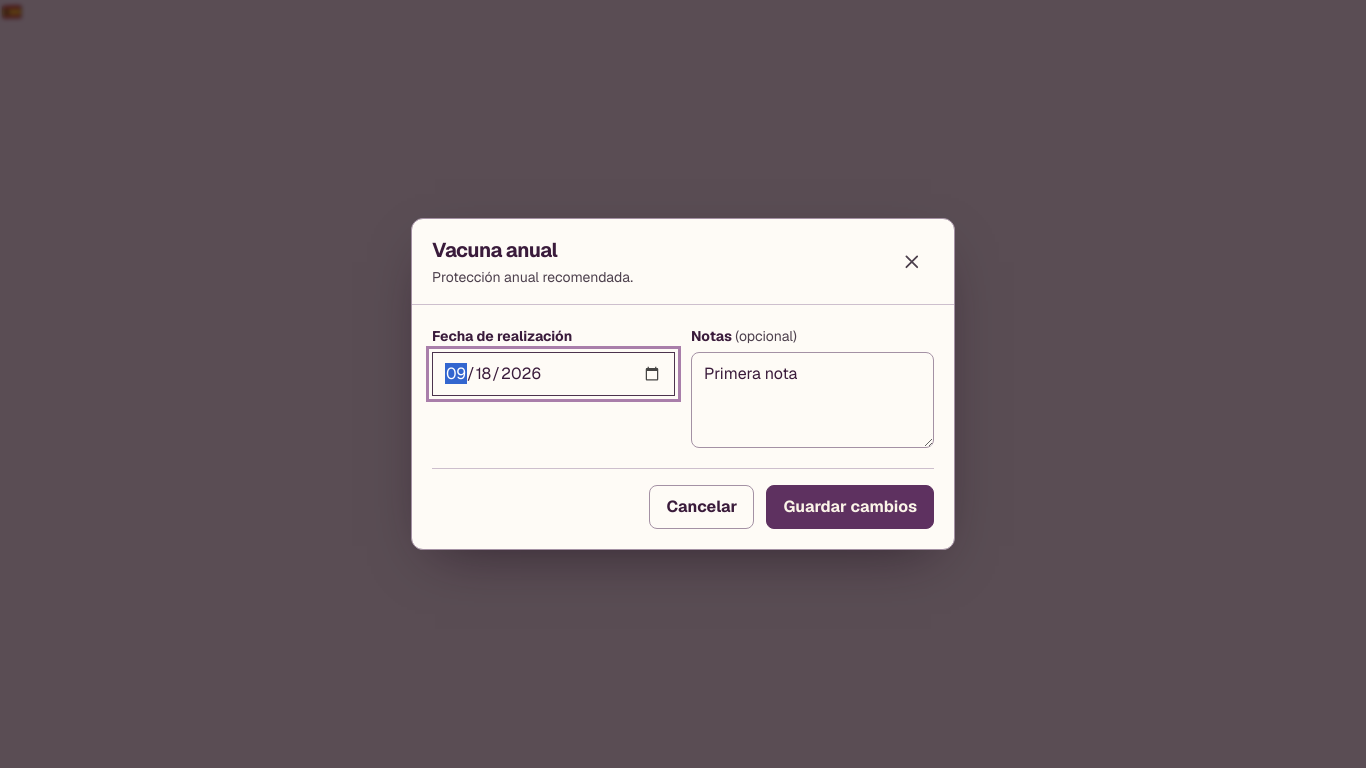
ProcedureModal › stays open and announces repository errors
The image size is (1366, 768).
Click the button "Guardar cambios" at [850, 507], box [766, 485, 934, 529]
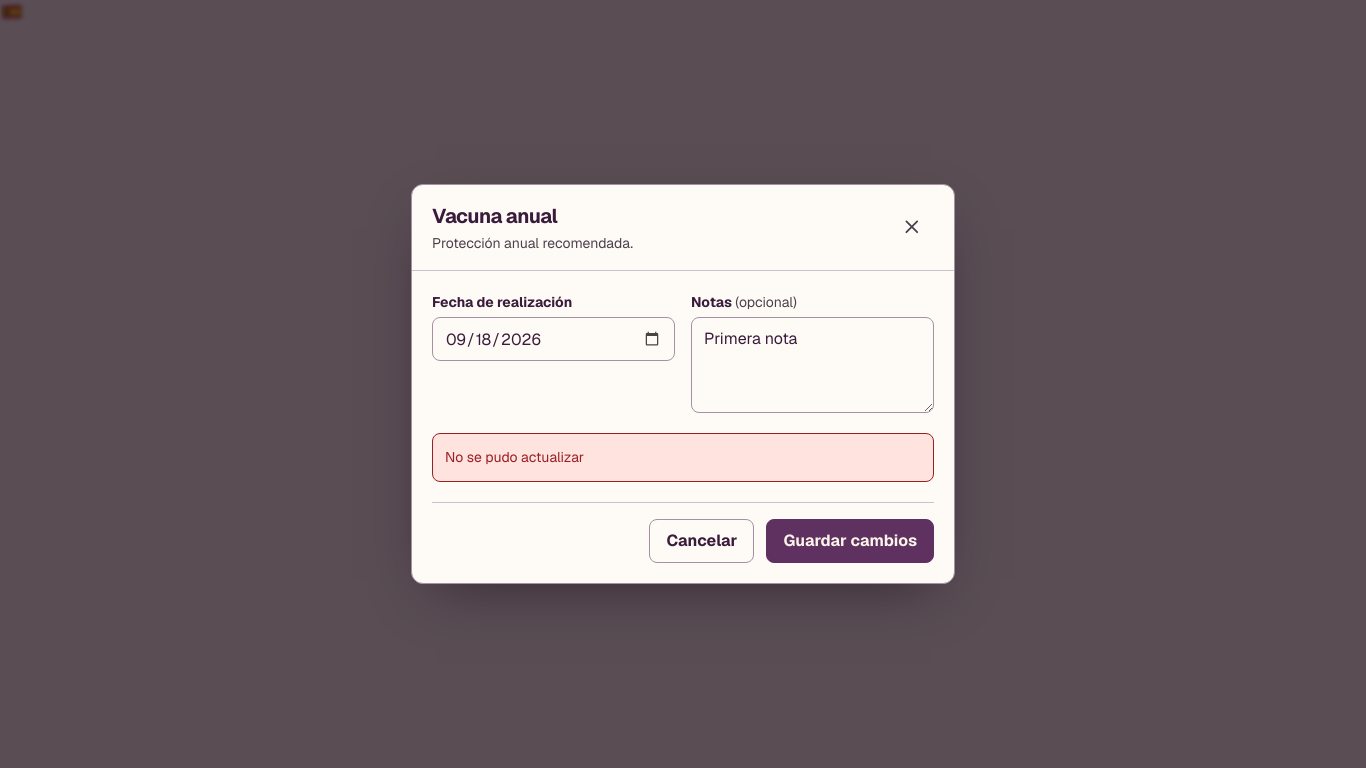
Expected: the button "Guardar cambios" is enabled, [766, 519, 934, 563]
Result: the message reads "No se pudo actualizar" at [445, 448, 584, 466]
